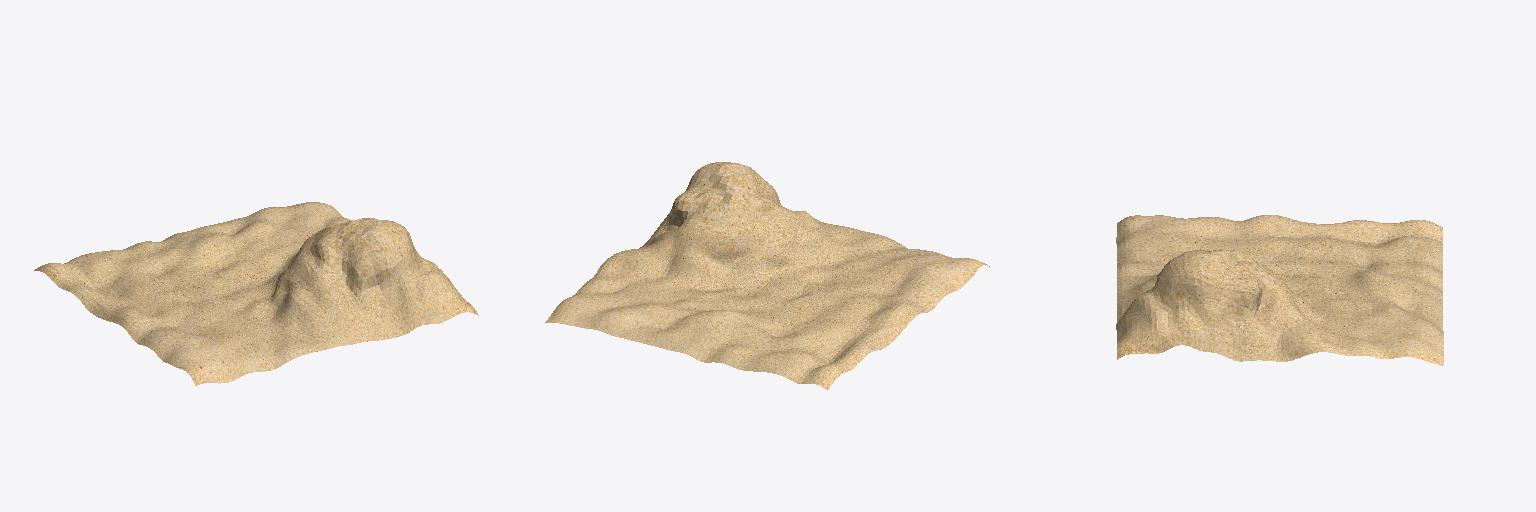
The picture shows the model from 3 angles: view 1: azimuth 30°, elevation 25°; view 2: azimuth 150°, elevation 25°; view 3: azimuth 270°, elevation 25°; orthographic projection.
Visible parts, largest first — view 1: Plane; view 2: Plane; view 3: Plane.
Part boxes in pixels (x1,y1,x2,y2): Plane: (34,202,478,385); Plane: (545,162,989,390); Plane: (1116,215,1443,365).
Bounding box in the file's own units: 20.33 × 5.72 × 20.1.
1 materials, 1 textured.